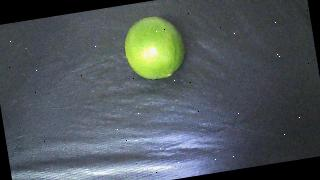LOCAL: (121, 12, 189, 83)
